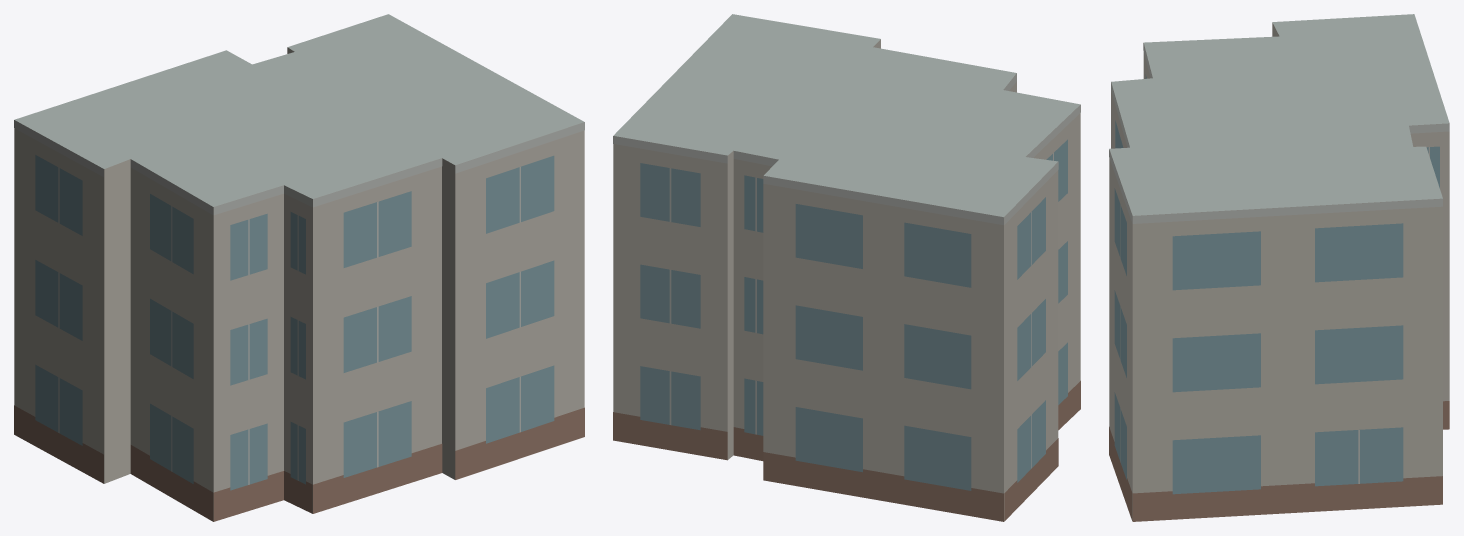
File: survey-upis-32472028.glb
3 renders of one model, left to right at view 1: azimuth 30°, elevation 25°; view 2: azimuth 150°, elevation 25°; view 3: azimuth 270°, elevation 25°, orthographic. The views are drawn at different scales.
Visible parts, largest first — view 1: survey-upis-32472028.tmp; view 2: survey-upis-32472028.tmp; view 3: survey-upis-32472028.tmp.
Part boxes in pixels (x1=…): survey-upis-32472028.tmp: x1=14, y1=14, x2=584, y2=521; survey-upis-32472028.tmp: x1=613, y1=14, x2=1080, y2=521; survey-upis-32472028.tmp: x1=1109, y1=14, x2=1449, y2=521.
Bounding box in the file's own units: 13.03 × 9.2 × 9.29.
